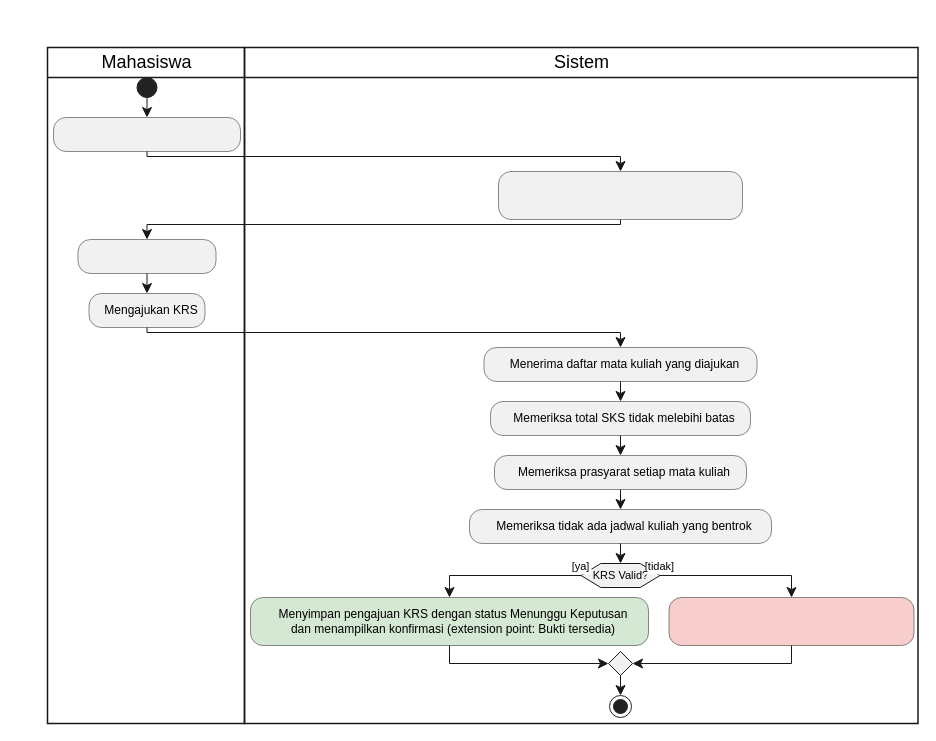
Image size: 936x741. Some labels were removed from this diagram. Here are the shapes that lost their labels. From the top down, the box of each, then its label:
(53, 117, 240, 151): Membuka fungsi Ajukan KRS
(498, 171, 742, 219): Menampilkan daftar mata kuliah yang ditawarkan pada semester berjalan
(77, 239, 216, 273): Memilih mata kuliah
(668, 597, 914, 645): Menolak pengajuan dan menampilkan pesan alasan KRS tidak valid
